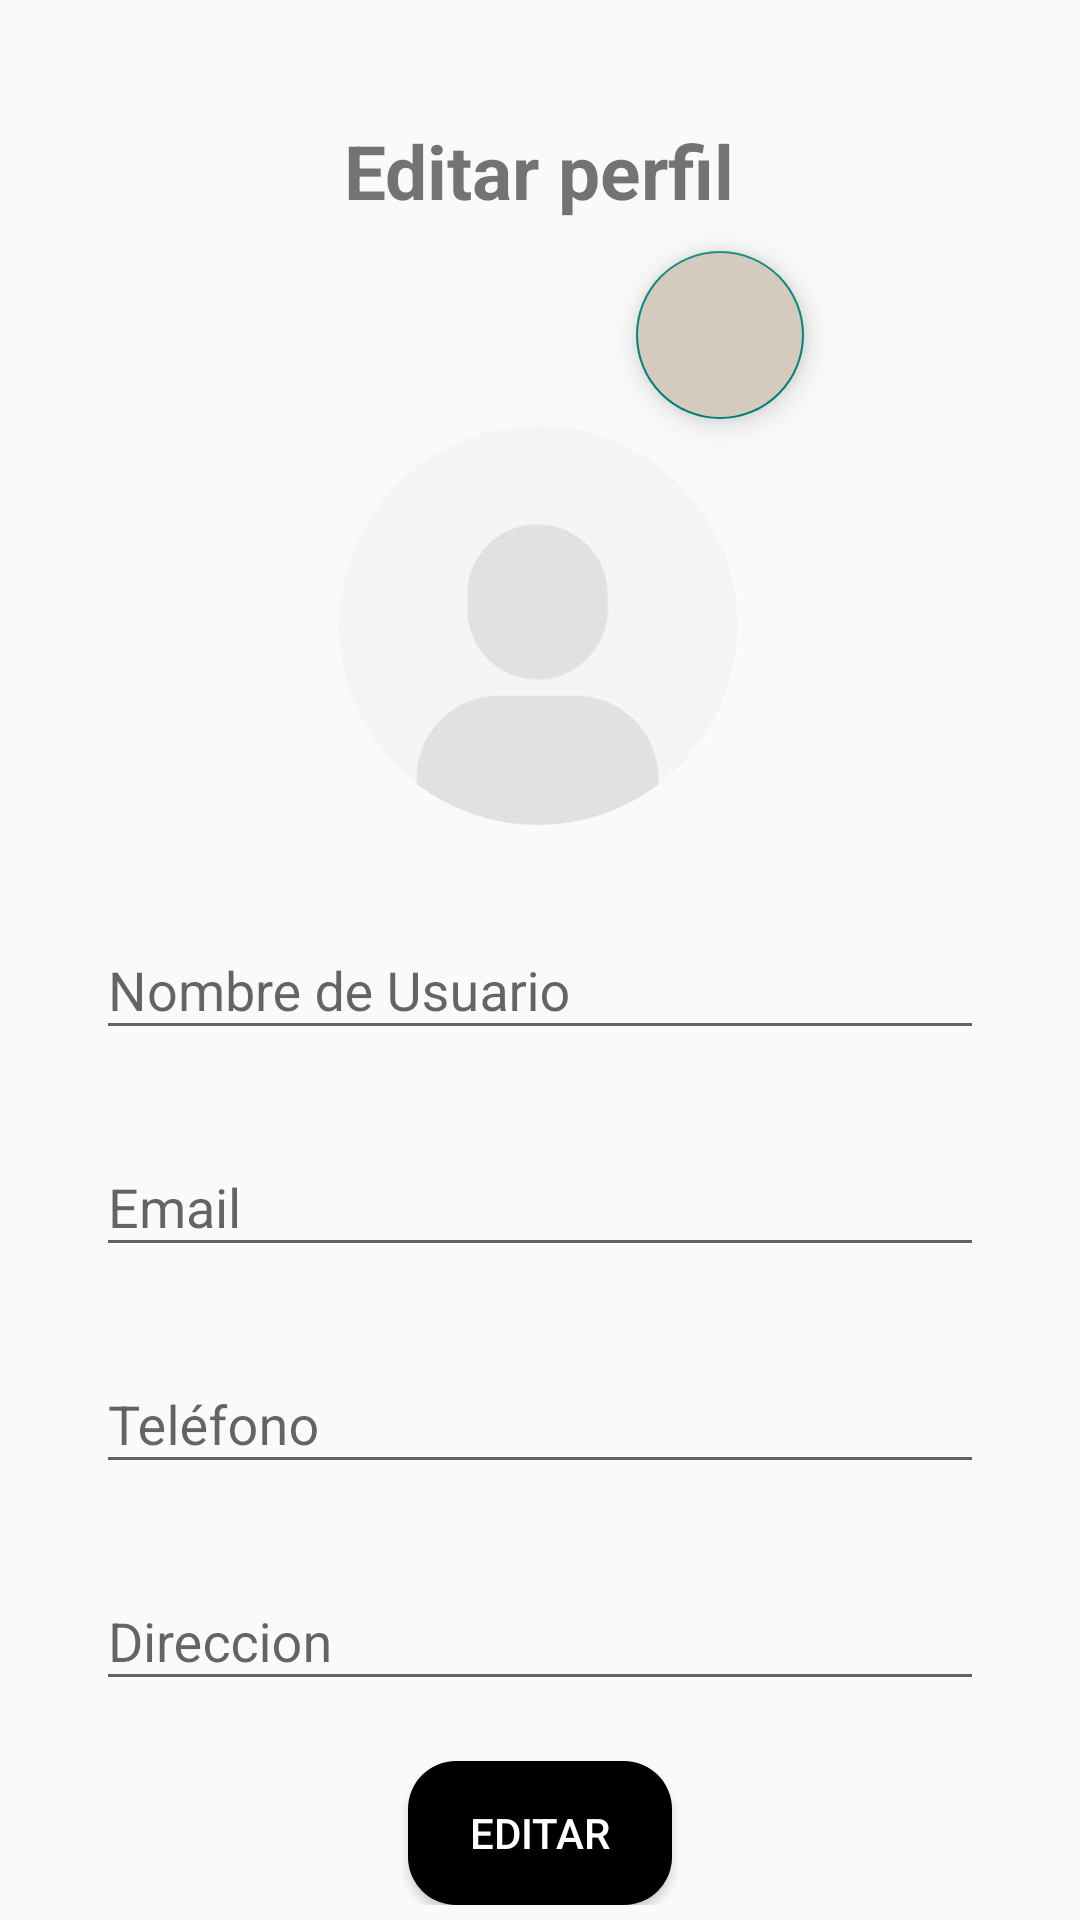

Locate icon controls on the screen. Image size 1080px×1920px, boxes as (x1, y1, x2, y2).
Profile picture: (417, 525, 657, 824)
